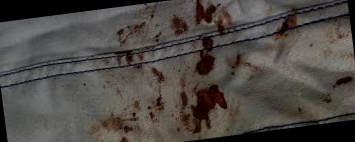blood: (185, 84, 229, 134), (192, 37, 219, 77), (149, 67, 173, 111), (102, 114, 142, 137), (115, 22, 146, 46), (193, 0, 219, 24), (272, 17, 299, 40), (116, 52, 143, 73), (172, 16, 188, 34), (334, 75, 352, 88)
